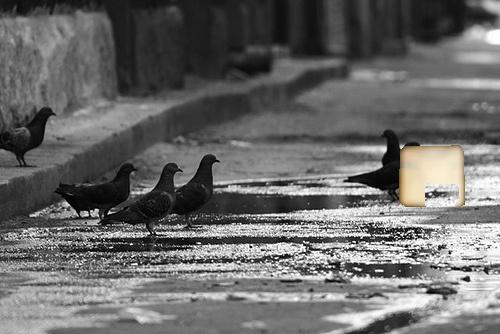tampered: (400, 146, 465, 207)
